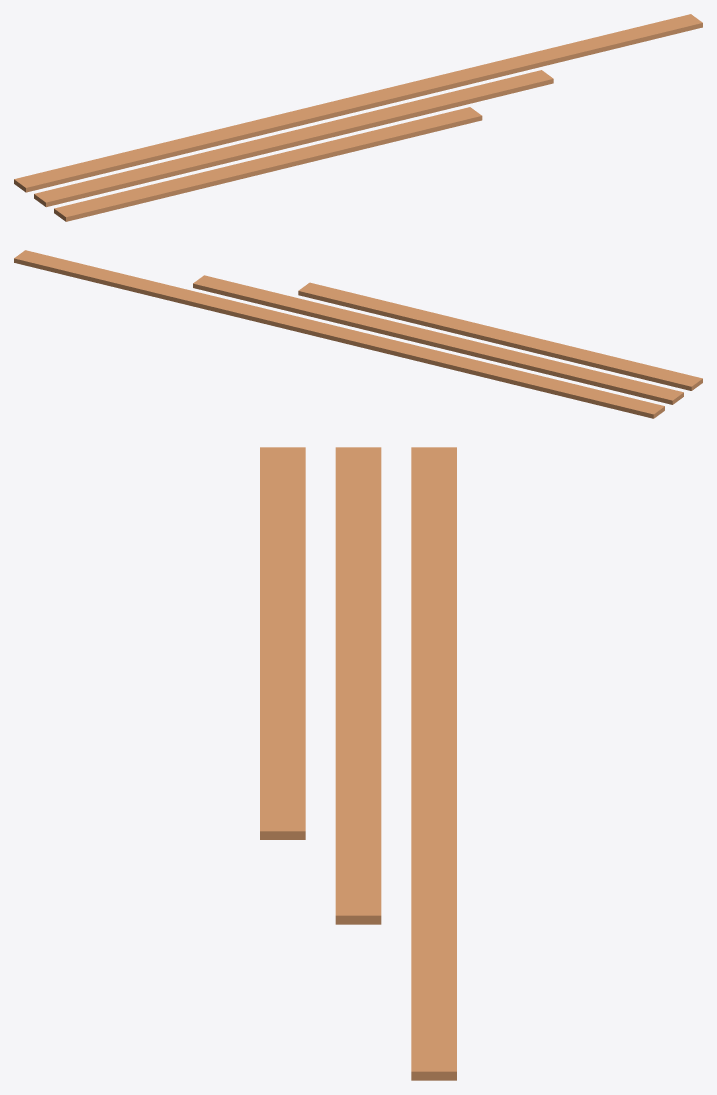
Rendered from deck-board-150x32_itauba-oro_v0.1.glb.
3 renders of one model, top to bottom at view 1: azimuth 30°, elevation 25°; view 2: azimuth 150°, elevation 25°; view 3: azimuth 270°, elevation 25°, orthographic. The views are drawn at different scales.
Parts seen in each view (by area): view 1: IB-225931_deck-board-150x32_itauba-oro_4880mm, IB-225921_deck-board-150x32_itauba-oro_3660mm, IB-272447_deck-board-150x32_itauba-oro_3000mm; view 2: IB-225931_deck-board-150x32_itauba-oro_4880mm, IB-225921_deck-board-150x32_itauba-oro_3660mm, IB-272447_deck-board-150x32_itauba-oro_3000mm; view 3: IB-225931_deck-board-150x32_itauba-oro_4880mm, IB-225921_deck-board-150x32_itauba-oro_3660mm, IB-272447_deck-board-150x32_itauba-oro_3000mm.
Part boxes in pixels (x1,y1,x2,y2): IB-225931_deck-board-150x32_itauba-oro_4880mm: [14, 14, 702, 192]; IB-225921_deck-board-150x32_itauba-oro_3660mm: [34, 70, 553, 207]; IB-272447_deck-board-150x32_itauba-oro_3000mm: [54, 107, 482, 221]; IB-225931_deck-board-150x32_itauba-oro_4880mm: [14, 250, 664, 418]; IB-225921_deck-board-150x32_itauba-oro_3660mm: [193, 275, 683, 404]; IB-272447_deck-board-150x32_itauba-oro_3000mm: [298, 282, 702, 390]; IB-225931_deck-board-150x32_itauba-oro_4880mm: [411, 447, 456, 1080]; IB-225921_deck-board-150x32_itauba-oro_3660mm: [335, 447, 381, 924]; IB-272447_deck-board-150x32_itauba-oro_3000mm: [260, 447, 305, 839].
Bounding box in the file's own units: 4.88 × 0.032 × 0.65.
